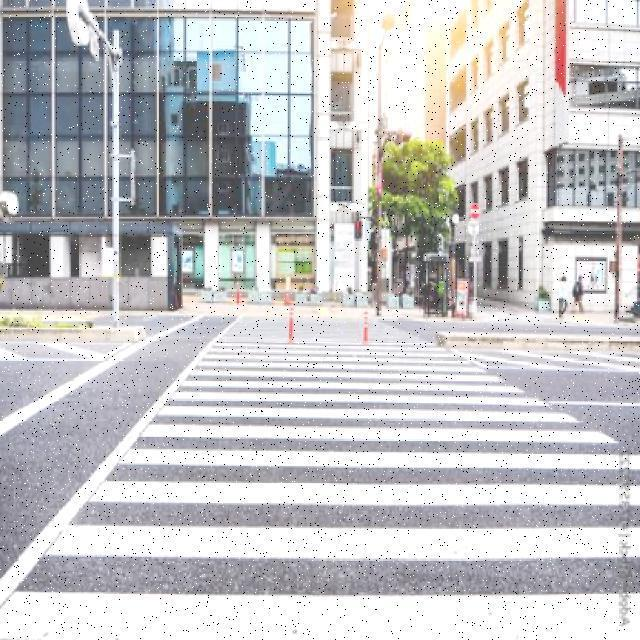Pedestrian crosswalk: (2, 311, 634, 639)
